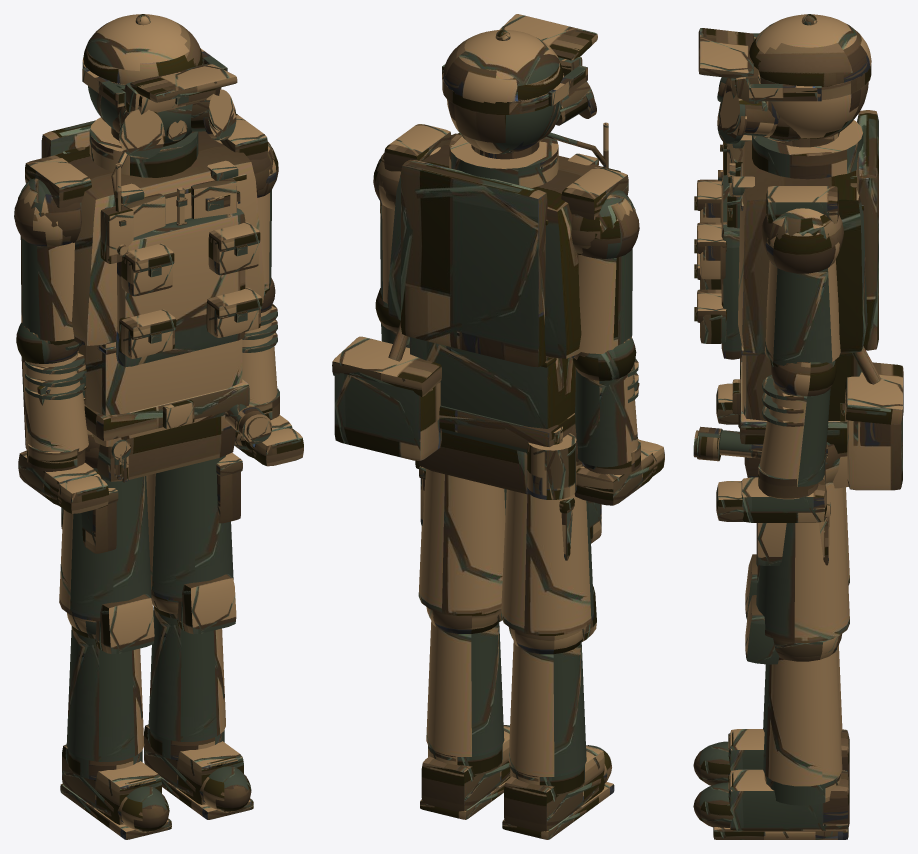
File: CH_trader_npc.glb
3 renders of one model, left to right at view 1: azimuth 30°, elevation 25°; view 2: azimuth 150°, elevation 25°; view 3: azimuth 270°, elevation 25°, orthographic. The views are drawn at different scales.
Visible parts, largest first — view 1: CH_trader_npc; view 2: CH_trader_npc; view 3: CH_trader_npc.
Part boxes in pixels (x1,y1,x2,y2): CH_trader_npc: (14,14,303,839); CH_trader_npc: (332,14,664,839); CH_trader_npc: (693,14,903,839).
Bounding box in the file's own units: 0.6193 × 1.81 × 0.4346.
Materials: 1 (1 with a texture image).
